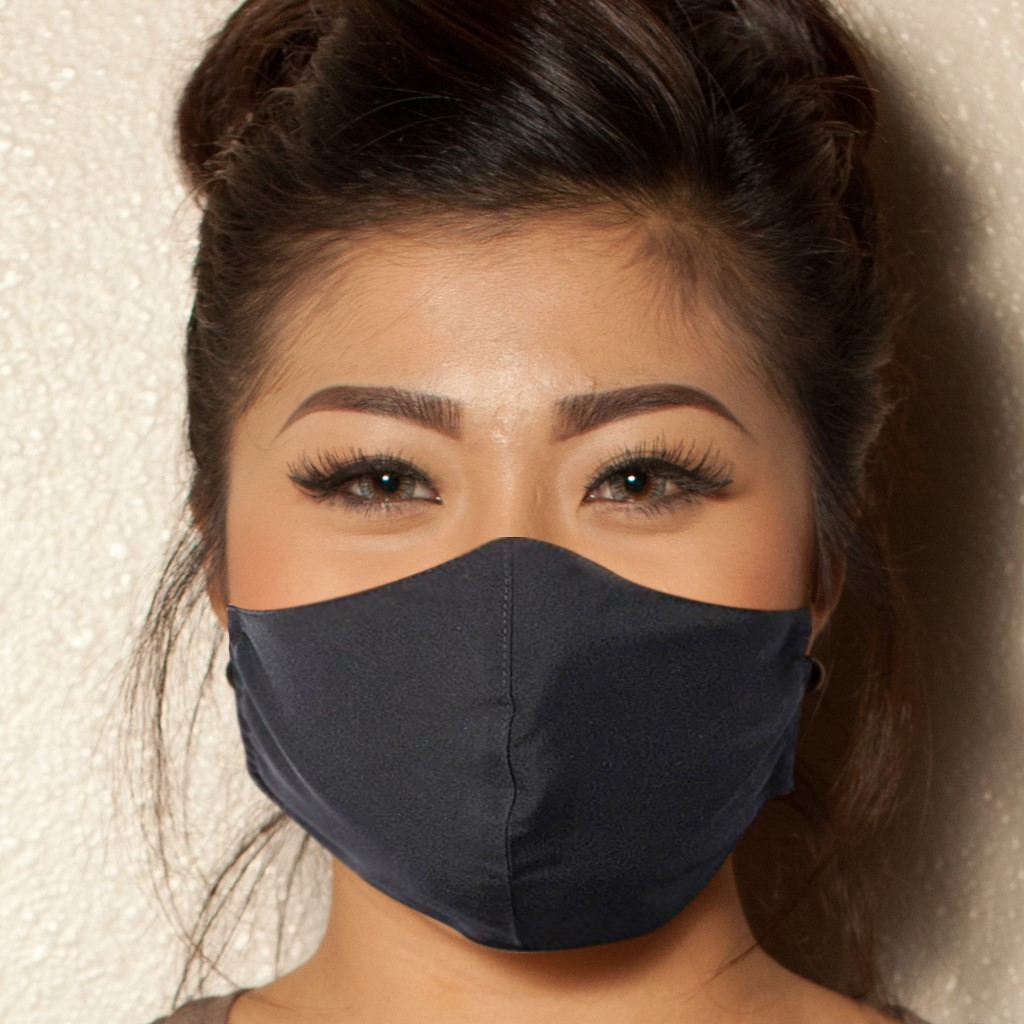con_mascara: (174, 141, 879, 982)
